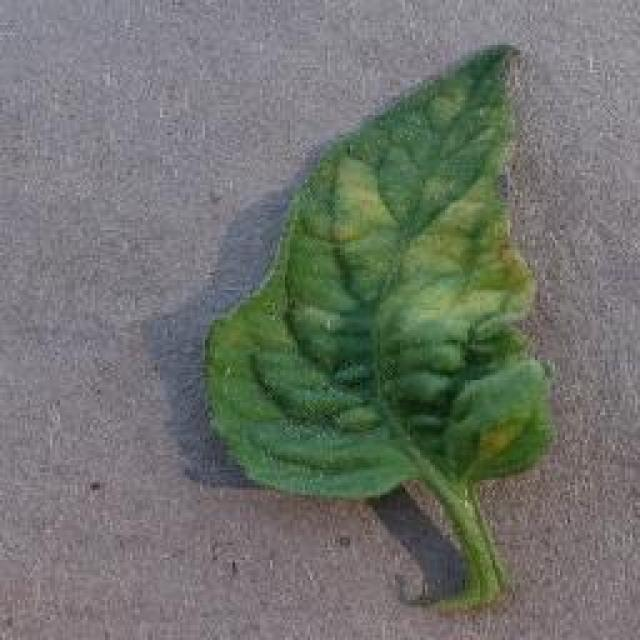leaf mold: (207, 50, 556, 593)
